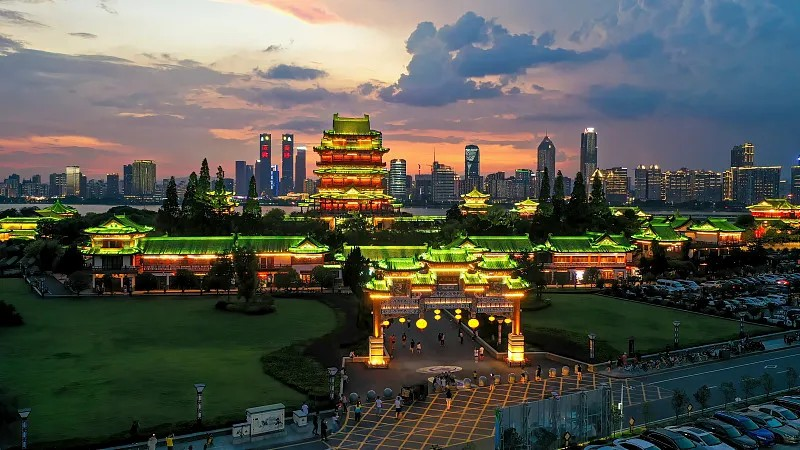Teng: (299, 113, 402, 218)
